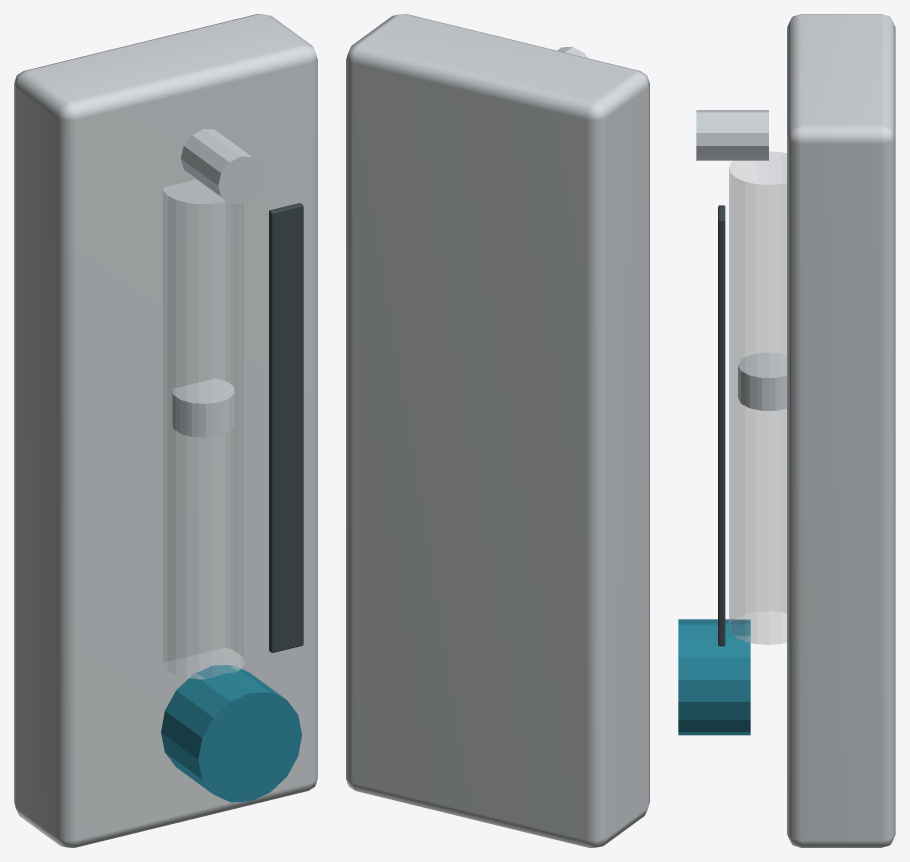
File: o2_flowmeter.fbx
3 views of the same model, side by side, from view 1: azimuth 30°, elevation 25°; view 2: azimuth 150°, elevation 25°; view 3: azimuth 270°, elevation 25° (orthographic). The views are drawn at different scales.
Visible parts, largest first — view 1: EQ_o2_flowmeter_Body, EQ_o2_flowmeter_Tube, EQ_o2_flowmeter_Scale, EQ_o2_flowmeter_Knob, EQ_o2_flowmeter_Outlet, EQ_o2_flowmeter_Float; view 2: EQ_o2_flowmeter_Body; view 3: EQ_o2_flowmeter_Body, EQ_o2_flowmeter_Tube, EQ_o2_flowmeter_Knob, EQ_o2_flowmeter_Outlet, EQ_o2_flowmeter_Scale, EQ_o2_flowmeter_Float.
Boxes of the visible parts, left/top/right/bottom form: EQ_o2_flowmeter_Body: left=14, top=14, right=317, bottom=847; EQ_o2_flowmeter_Tube: left=163, top=179, right=244, bottom=679; EQ_o2_flowmeter_Scale: left=269, top=203, right=303, bottom=652; EQ_o2_flowmeter_Knob: left=161, top=665, right=301, bottom=802; EQ_o2_flowmeter_Outlet: left=180, top=129, right=263, bottom=203; EQ_o2_flowmeter_Float: left=172, top=378, right=234, bottom=437; EQ_o2_flowmeter_Body: left=346, top=14, right=649, bottom=847; EQ_o2_flowmeter_Body: left=787, top=14, right=895, bottom=847; EQ_o2_flowmeter_Tube: left=729, top=151, right=786, bottom=644; EQ_o2_flowmeter_Knob: left=678, top=619, right=750, bottom=735; EQ_o2_flowmeter_Outlet: left=696, top=110, right=768, bottom=160; EQ_o2_flowmeter_Scale: left=718, top=205, right=725, bottom=646; EQ_o2_flowmeter_Float: left=738, top=352, right=786, bottom=410.
Bounding box in the file's own units: 0.08 × 0.22 × 0.06.
